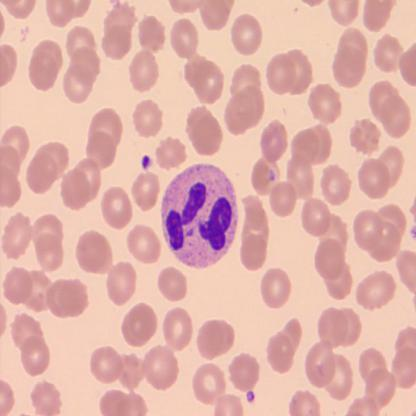Segmented neutrophil: (158, 161, 240, 270)
